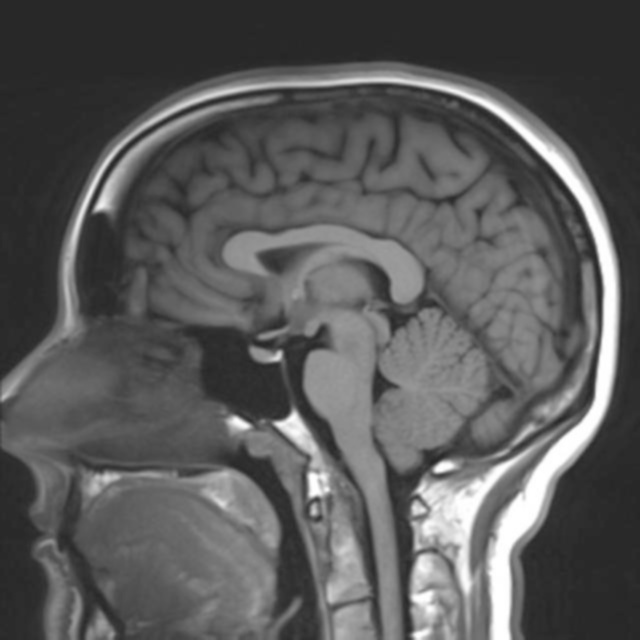glioma tumor: (125, 145, 492, 640)
